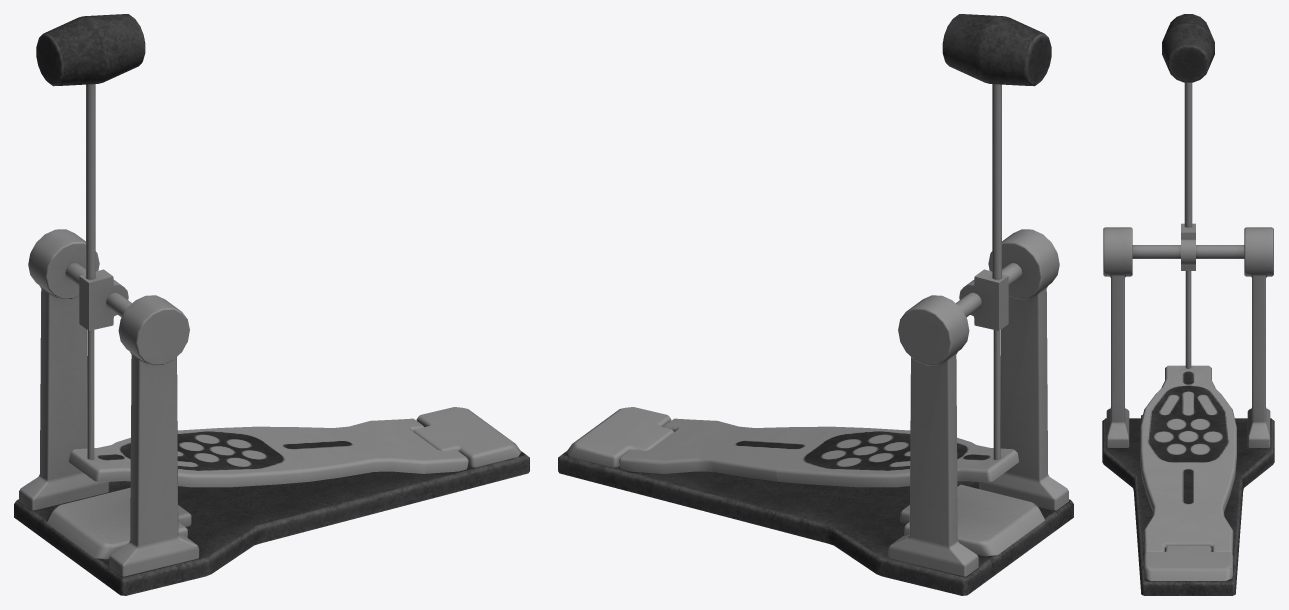
File: SM_Drum_Pedal_01.fbx
The picture shows the model from 3 angles, left to right: view 1: azimuth 30°, elevation 25°; view 2: azimuth 150°, elevation 25°; view 3: azimuth 270°, elevation 25°; orthographic projection. The views are drawn at different scales.
Visible parts, largest first — view 1: SM_Drum_Pedal_01_LOD0; view 2: SM_Drum_Pedal_01_LOD0; view 3: SM_Drum_Pedal_01_LOD0.
Boxes of the visible parts, x1=… form: SM_Drum_Pedal_01_LOD0: x1=14, y1=14, x2=529, y2=595; SM_Drum_Pedal_01_LOD0: x1=558, y1=14, x2=1073, y2=595; SM_Drum_Pedal_01_LOD0: x1=1102, y1=14, x2=1274, y2=595.
Size of the model in its own units: 26.1 by 11 by 29.22.
Materials: 1 (1 with a texture image).
